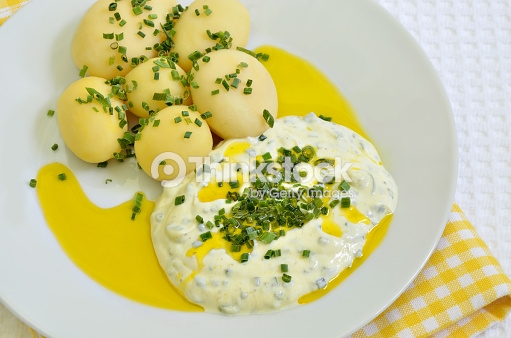boiled potatoes: (101, 7, 261, 139)
